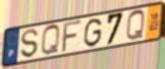7: (105, 11, 125, 47)
F: (60, 18, 84, 54)
G: (83, 17, 104, 49)
Q: (125, 9, 146, 43), (40, 23, 61, 57)
S: (20, 28, 40, 59)
